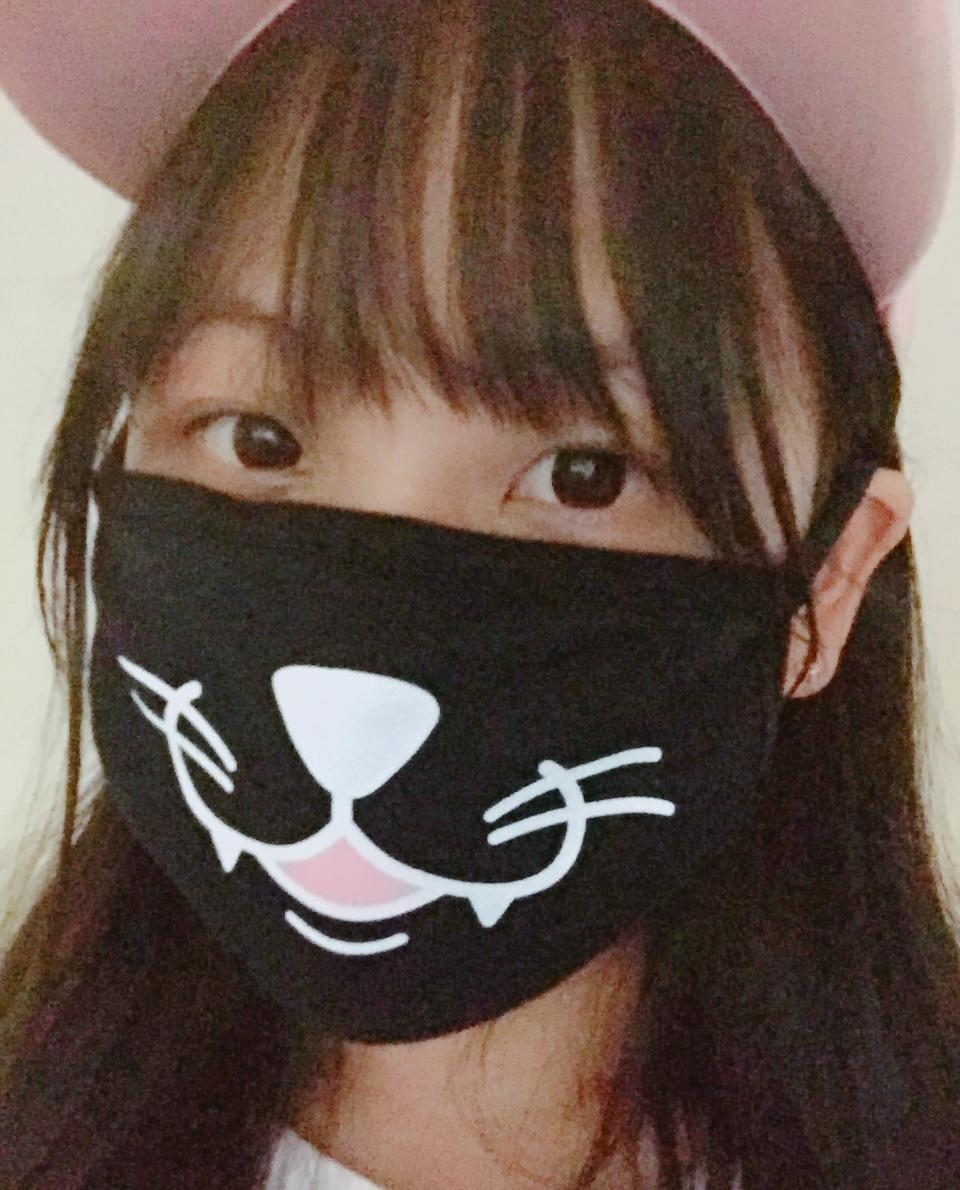OK: (77, 220, 894, 1037)
